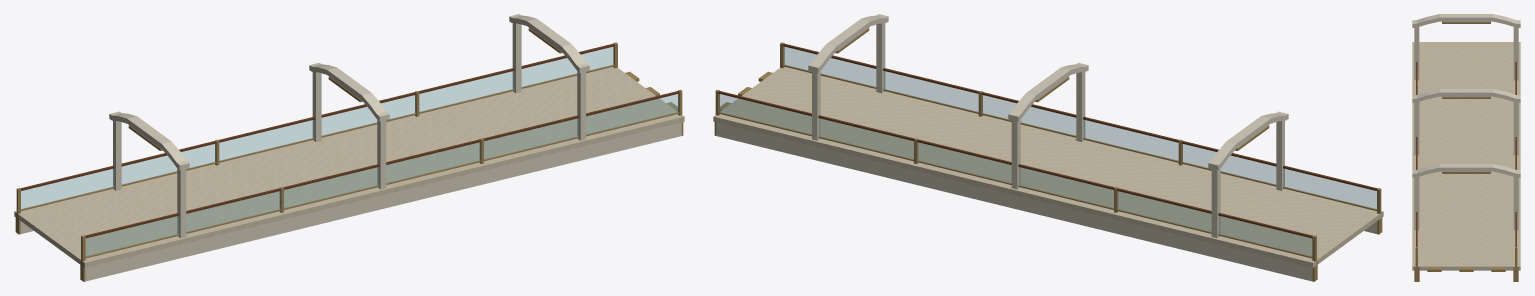
The model's file is AST-TRM-G4-034_D11_secondary_approach_r001.glb.
3 renders of one model, left to right at view 1: azimuth 30°, elevation 25°; view 2: azimuth 150°, elevation 25°; view 3: azimuth 270°, elevation 25°, orthographic. The views are drawn at different scales.
Parts seen in each view (by area): view 1: D11_SECONDARY_D12_MissingOnly_MainBridgeFloor, D11_SECONDARY_D12__TB_AFT_SIDE_BEAM, D11_SECONDARY_D12__TB_AFT_GLASS_4, D11_SECONDARY_D12__TB_AFT_GLASS_2, D11_SECONDARY_D12__TB_FORE_GLASS_4, D11_SECONDARY_D12__TB_AFT_GLASS_1, D11_SECONDARY_D12__TB_FORE_GLASS_2, D11_SECONDARY_D12__TB_FORE_GLASS_0, D11_SECONDARY_D12__TB_AFT_GLASS_3, D11_SECONDARY_D12__TB_AFT_GLASS_0, D11_SECONDARY_D12__TB_AFT_GLASS_5, D11_SECONDARY_D12__TB_FORE_GLASS_1 (+11 smaller); view 2: D11_SECONDARY_D12_MissingOnly_MainBridgeFloor, D11_SECONDARY_D12__TB_FORE_SIDE_BEAM, D11_SECONDARY_D12__TB_FORE_GLASS_4, D11_SECONDARY_D12__TB_FORE_GLASS_2, D11_SECONDARY_D12__TB_AFT_GLASS_4, D11_SECONDARY_D12__TB_AFT_GLASS_2, D11_SECONDARY_D12__TB_FORE_GLASS_1, D11_SECONDARY_D12__TB_AFT_GLASS_0, D11_SECONDARY_D12__TB_FORE_GLASS_3, D11_SECONDARY_D12__TB_FORE_GLASS_0, D11_SECONDARY_D12__TB_FORE_GLASS_5, D11_SECONDARY_D12__TB_AFT_GLASS_1 (+11 smaller); view 3: D11_SECONDARY_D12_MissingOnly_MainBridgeFloor, D11_SECONDARY_D12__TB_VAULT_0, D11_SECONDARY_D12__TB_VAULT_1, D11_SECONDARY_D12__TB_VAULT_2, D11_SECONDARY_D12__TB_AFT_RIB_PIER_1, D11_SECONDARY_D12__TB_AFT_RIB_PIER_2, D11_SECONDARY_D12__TB_FORE_RIB_PIER_1, D11_SECONDARY_D12__TB_FORE_RIB_PIER_2, D11_SECONDARY_D12__TB_AFT_RIB_PIER_0, D11_SECONDARY_D12__TB_FORE_RIB_PIER_0, D11_SECONDARY_D12__TB_COFF_0_R_SIDE, D11_SECONDARY_D12__TB_COFF_1_R_SIDE (+3 smaller).
Part boxes in pixels (x1,y1,x2,y2): D11_SECONDARY_D12_MissingOnly_MainBridgeFloor: [14, 67, 684, 267]; D11_SECONDARY_D12__TB_AFT_SIDE_BEAM: [85, 122, 681, 281]; D11_SECONDARY_D12__TB_AFT_GLASS_4: [484, 118, 578, 159]; D11_SECONDARY_D12__TB_AFT_GLASS_2: [284, 167, 378, 208]; D11_SECONDARY_D12__TB_FORE_GLASS_4: [419, 71, 513, 111]; D11_SECONDARY_D12__TB_AFT_GLASS_1: [186, 191, 280, 231]; D11_SECONDARY_D12__TB_FORE_GLASS_2: [219, 120, 313, 160]; D11_SECONDARY_D12__TB_FORE_GLASS_0: [21, 168, 114, 209]; D11_SECONDARY_D12__TB_AFT_GLASS_3: [386, 142, 479, 182]; D11_SECONDARY_D12__TB_AFT_GLASS_0: [86, 216, 178, 256]; D11_SECONDARY_D12__TB_AFT_GLASS_5: [586, 94, 678, 134]; D11_SECONDARY_D12__TB_FORE_GLASS_1: [122, 144, 215, 184]; D11_SECONDARY_D12_MissingOnly_MainBridgeFloor: [713, 67, 1383, 267]; D11_SECONDARY_D12__TB_FORE_SIDE_BEAM: [716, 122, 1312, 281]; D11_SECONDARY_D12__TB_FORE_GLASS_4: [819, 118, 913, 159]; D11_SECONDARY_D12__TB_FORE_GLASS_2: [1019, 167, 1113, 208]; D11_SECONDARY_D12__TB_AFT_GLASS_4: [884, 71, 978, 111]; D11_SECONDARY_D12__TB_AFT_GLASS_2: [1084, 120, 1178, 160]; D11_SECONDARY_D12__TB_FORE_GLASS_1: [1117, 191, 1211, 231]; D11_SECONDARY_D12__TB_AFT_GLASS_0: [1283, 168, 1376, 209]; D11_SECONDARY_D12__TB_FORE_GLASS_3: [918, 142, 1011, 182]; D11_SECONDARY_D12__TB_FORE_GLASS_0: [1219, 216, 1311, 256]; D11_SECONDARY_D12__TB_FORE_GLASS_5: [719, 94, 811, 134]; D11_SECONDARY_D12__TB_AFT_GLASS_1: [1182, 144, 1275, 184]; D11_SECONDARY_D12_MissingOnly_MainBridgeFloor: [1412, 42, 1520, 270]; D11_SECONDARY_D12__TB_VAULT_0: [1412, 14, 1520, 27]; D11_SECONDARY_D12__TB_VAULT_1: [1412, 89, 1520, 102]; D11_SECONDARY_D12__TB_VAULT_2: [1412, 164, 1520, 177]; D11_SECONDARY_D12__TB_AFT_RIB_PIER_1: [1414, 102, 1419, 155]; D11_SECONDARY_D12__TB_AFT_RIB_PIER_2: [1414, 177, 1419, 230]; D11_SECONDARY_D12__TB_FORE_RIB_PIER_1: [1513, 102, 1518, 155]; D11_SECONDARY_D12__TB_FORE_RIB_PIER_2: [1513, 177, 1518, 230]; D11_SECONDARY_D12__TB_AFT_RIB_PIER_0: [1414, 27, 1419, 80]; D11_SECONDARY_D12__TB_FORE_RIB_PIER_0: [1513, 27, 1518, 80]; D11_SECONDARY_D12__TB_COFF_0_R_SIDE: [1442, 22, 1490, 23]; D11_SECONDARY_D12__TB_COFF_1_R_SIDE: [1442, 97, 1490, 98].
Bounding box in the file's own units: 30.3 × 4.9 × 6.1.
6 materials, 4 textured.
